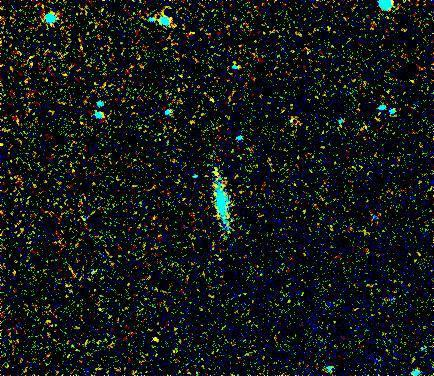star: (142, 321, 172, 351)
